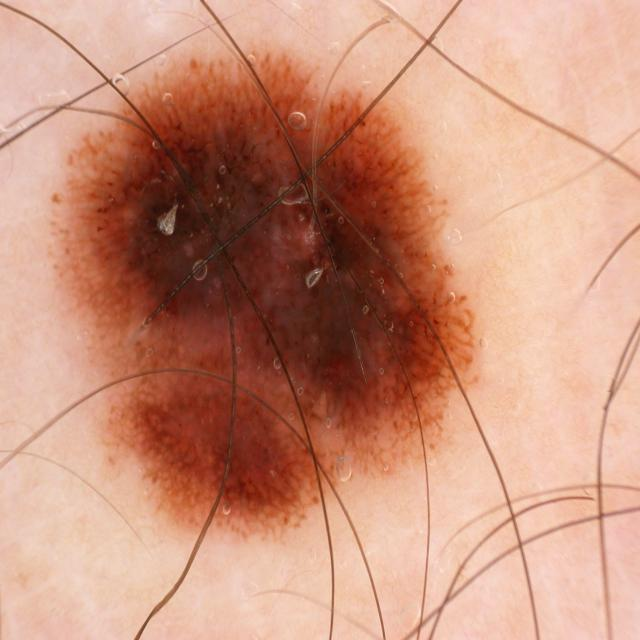Benign: (44, 52, 483, 542)
